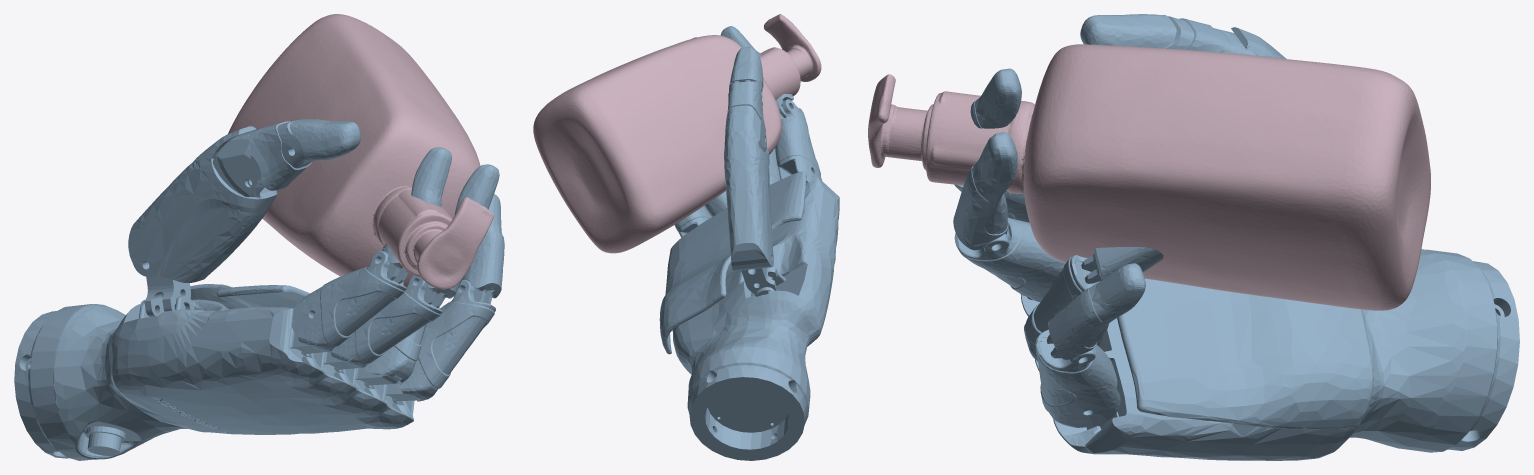
3 renders of one model, left to right at view 1: azimuth 30°, elevation 25°; view 2: azimuth 150°, elevation 25°; view 3: azimuth 270°, elevation 25°, orthographic. The views are drawn at different scales.
Parts seen in each view (by area): view 1: world, obj_mesh_grasp_15.obj; view 2: world, obj_mesh_grasp_15.obj; view 3: world, obj_mesh_grasp_15.obj.
Boxes of the visible parts, box(x1,y1,x2,y2) form: world: box(14, 119, 504, 460); obj_mesh_grasp_15.obj: box(228, 14, 493, 289); world: box(659, 26, 839, 460); obj_mesh_grasp_15.obj: box(533, 14, 821, 253); world: box(953, 14, 1519, 460); obj_mesh_grasp_15.obj: box(868, 44, 1430, 310).
Bounding box in the file's own units: 0.1498 × 0.1563 × 0.1778.
